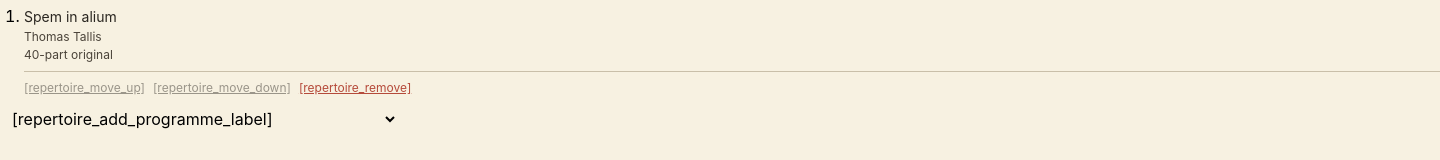
Scenario: #272 — "Add to programme" link visibility follows the selection › returning the selection to the placeholder ('') hides the button again
Select "Spem in alium - Thomas Tallis — 40-part original" in the dropdown with test id "work-manage-add-programme-select". click: x=203, y=119
box: [8, 108, 398, 130]
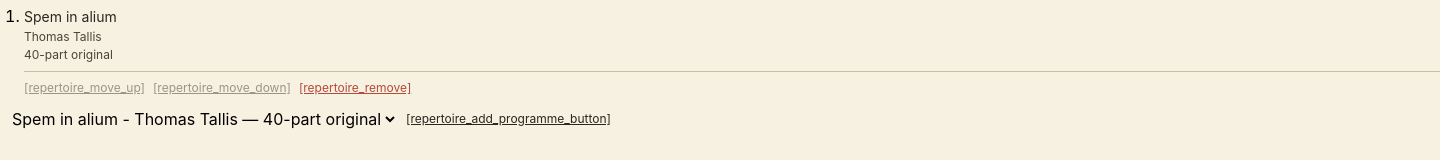
expect the button with test id "work-manage-add-programme-button" is shown: met, box [406, 111, 611, 127]
Select "[repertoire_add_programme_label]" in the dropdown with test id "work-manage-add-programme-select". click: x=203, y=119
box: [8, 108, 398, 130]
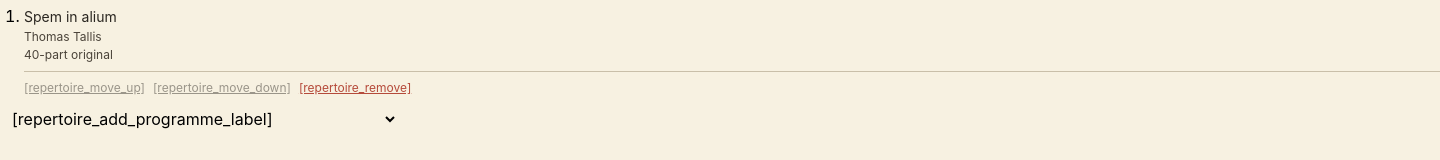
expect the button with test id "work-manage-add-programme-button" is gone: met
